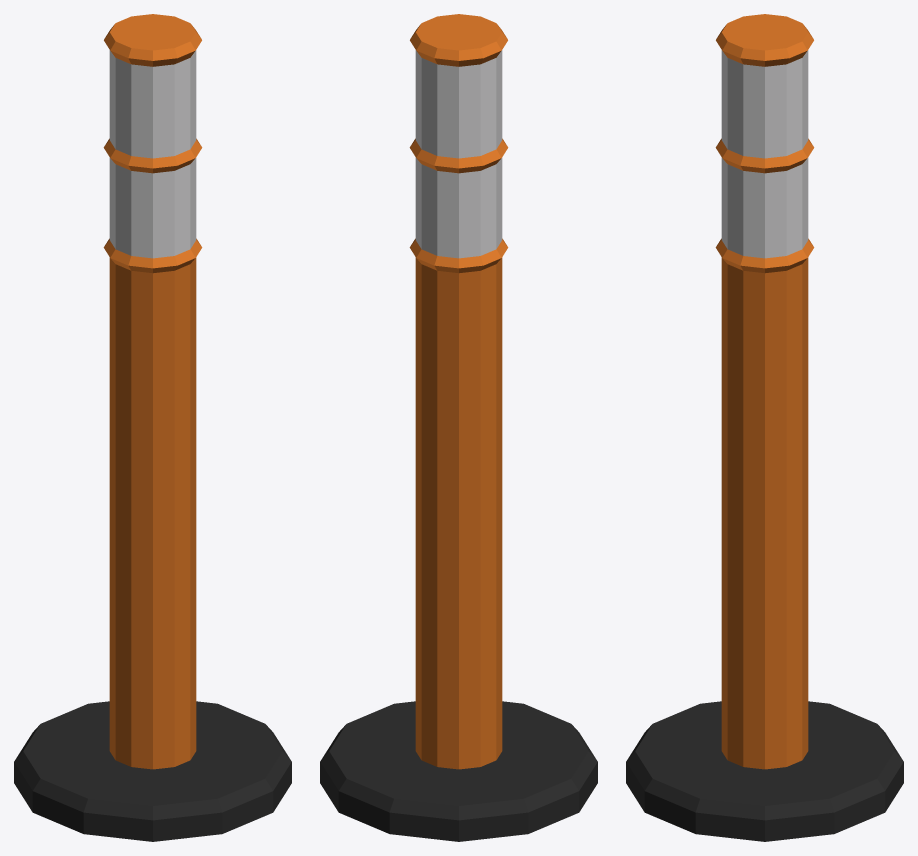
File: SM_column_2.gltf
The picture shows the model from 3 angles, left to right: view 1: azimuth 30°, elevation 25°; view 2: azimuth 150°, elevation 25°; view 3: azimuth 270°, elevation 25°; orthographic projection.
Visible parts, largest first — view 1: SM_column_2; view 2: SM_column_2; view 3: SM_column_2.
Part boxes in pixels (box(x1,y1,x2,y2)): SM_column_2: box(14, 14, 291, 841); SM_column_2: box(320, 14, 597, 841); SM_column_2: box(626, 14, 903, 841).
Bounding box in the file's own units: 0.3278 × 0.978 × 0.3278.
Materials: 1 (1 with a texture image).
